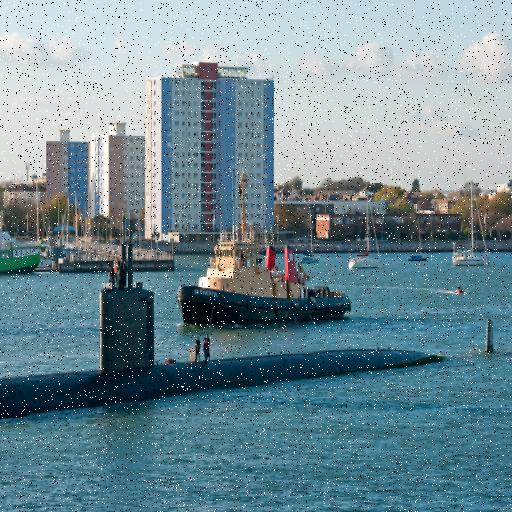submarine: (1, 282, 447, 429)
